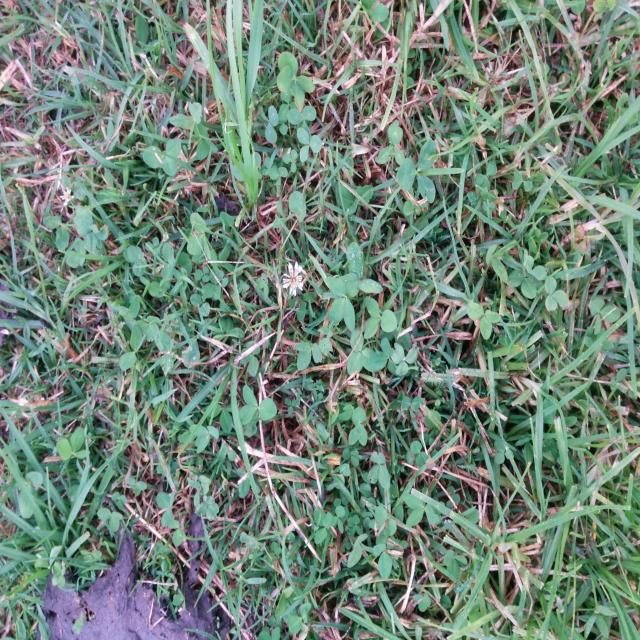Four Leaf Clover: (277, 51, 315, 112)
